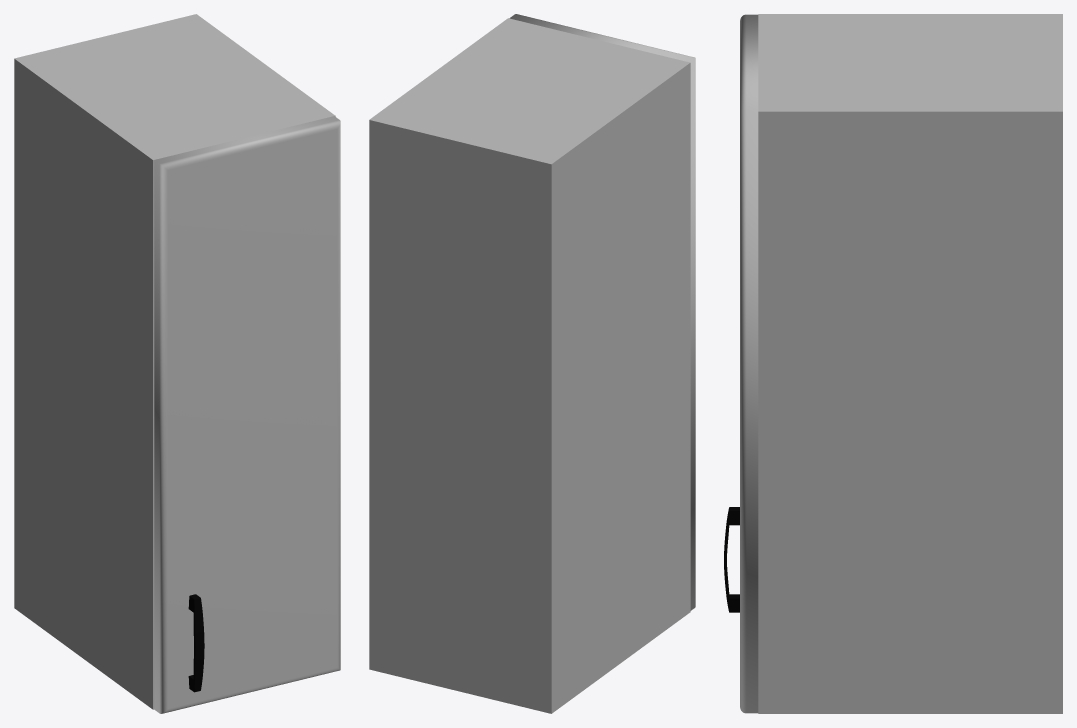
3 renders of one model, left to right at view 1: azimuth 30°, elevation 25°; view 2: azimuth 150°, elevation 25°; view 3: azimuth 270°, elevation 25°, orthographic. The views are drawn at different scales.
Visible parts, largest first — view 1: Box011, Box001, Obj3d66-503491-2-344; view 2: Box001, Box011; view 3: Box001, Box011, Obj3d66-503491-2-344.
Boxes of the visible parts, <box> form: Box011: <box>154,116,340,713</box>; Box001: <box>14,14,335,709</box>; Obj3d66-503491-2-344: <box>188,594,204,692</box>; Box001: <box>369,18,690,713</box>; Box011: <box>509,14,695,610</box>; Box001: <box>758,14,1062,713</box>; Box011: <box>740,14,758,713</box>; Obj3d66-503491-2-344: <box>724,507,739,612</box>.
Size of the model in its own units: 0.25 by 0.72 by 0.3671.
2 materials, 1 textured.
